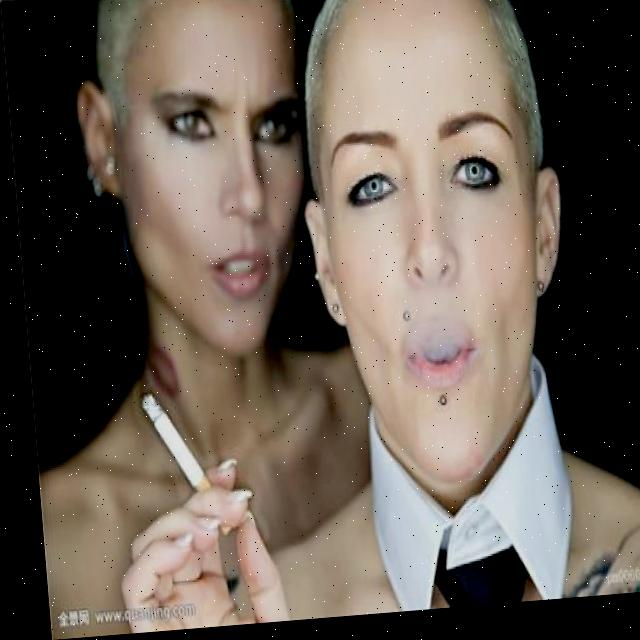cigarette: (135, 394, 230, 543)
